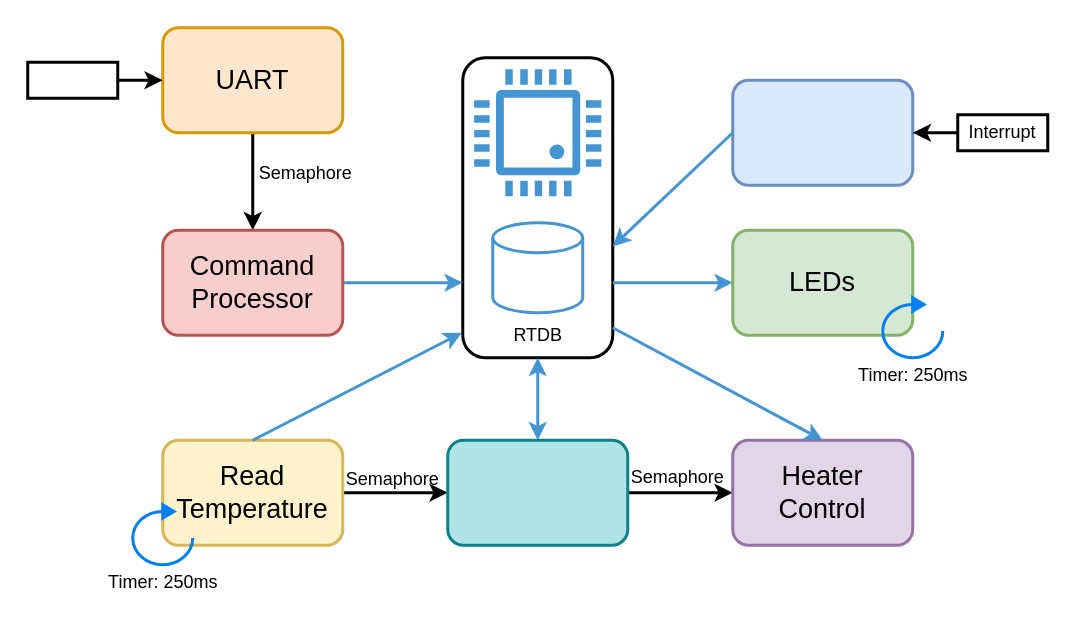
This 1074x630 diagram has some shape labels left out. The shapes that lost their labels are listed below. From the top down, each one's centre as x and y in pixels, then its label:
At (72,79): "CallBack".
At (822,132): "Buttons".
At (537,492): "PID Controller".
